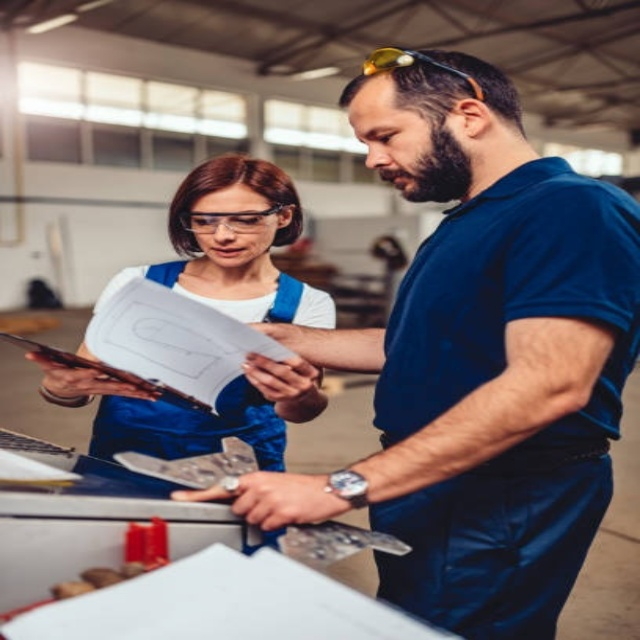Gafas: (176, 206, 282, 232)
Sin_gafas: (355, 114, 417, 150)
Sin_guantes: (199, 468, 351, 530), (26, 350, 148, 402), (238, 350, 323, 404)
Sin_mascara: (373, 167, 427, 201), (205, 242, 249, 266)
